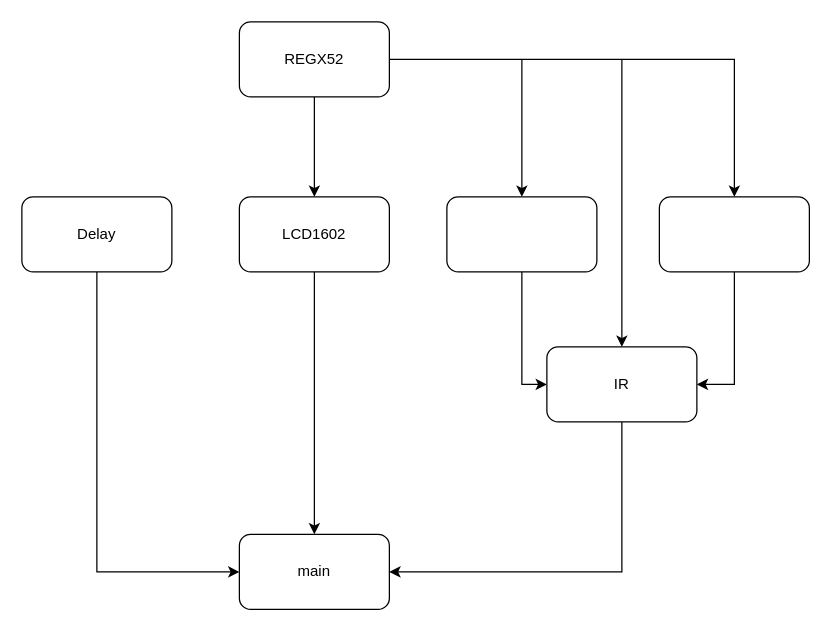
The diagram is 831 pixels wide and 631 high, and some of its shapes have lost their labels. Each missing label, with the box of its shape:
Int0: (658, 196, 809, 272)
Timer0: (446, 196, 597, 272)
